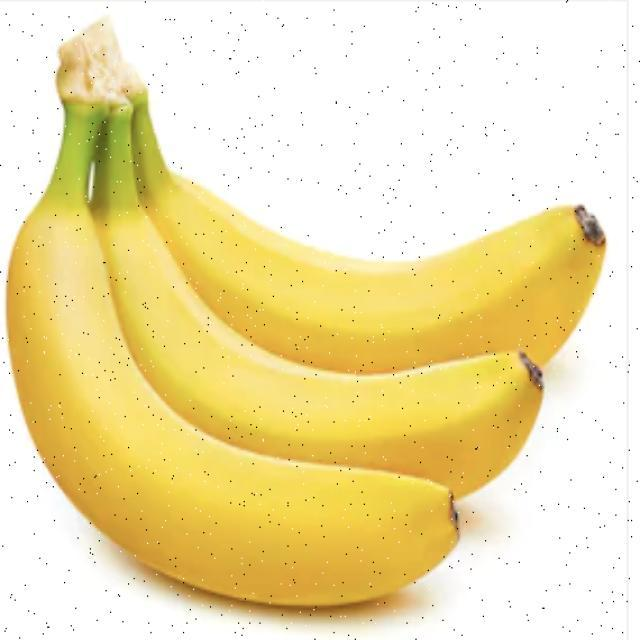Banana: (5, 15, 606, 608)
